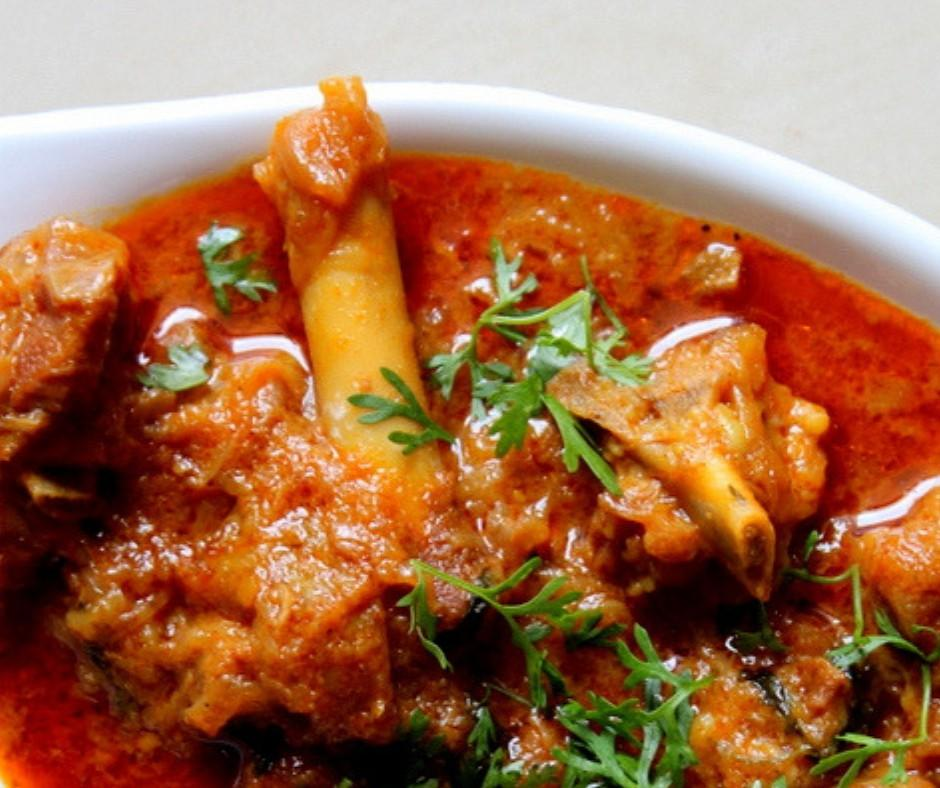MuttonCurry: (0, 71, 940, 788)
